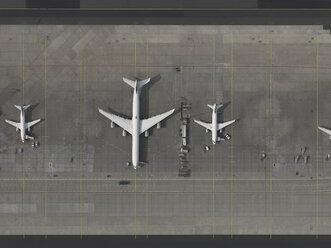Airplane: (97, 74, 177, 172), (192, 100, 239, 146), (2, 102, 43, 144)
